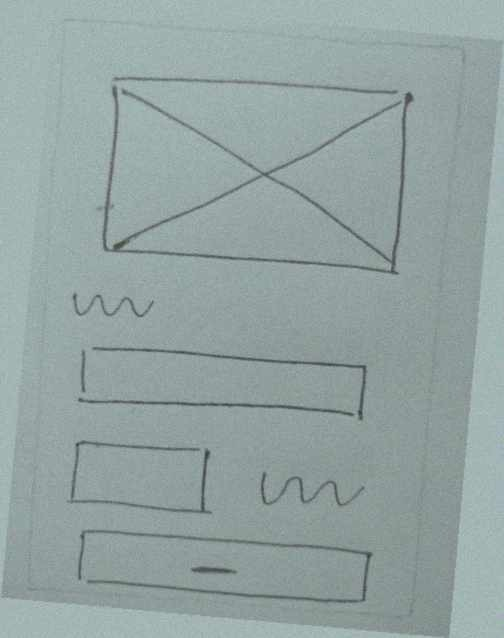button: (65, 518, 383, 612)
image: (88, 59, 424, 285)
text: (243, 455, 374, 525), (61, 278, 160, 331)
text_input: (61, 330, 382, 441), (58, 431, 223, 523)
